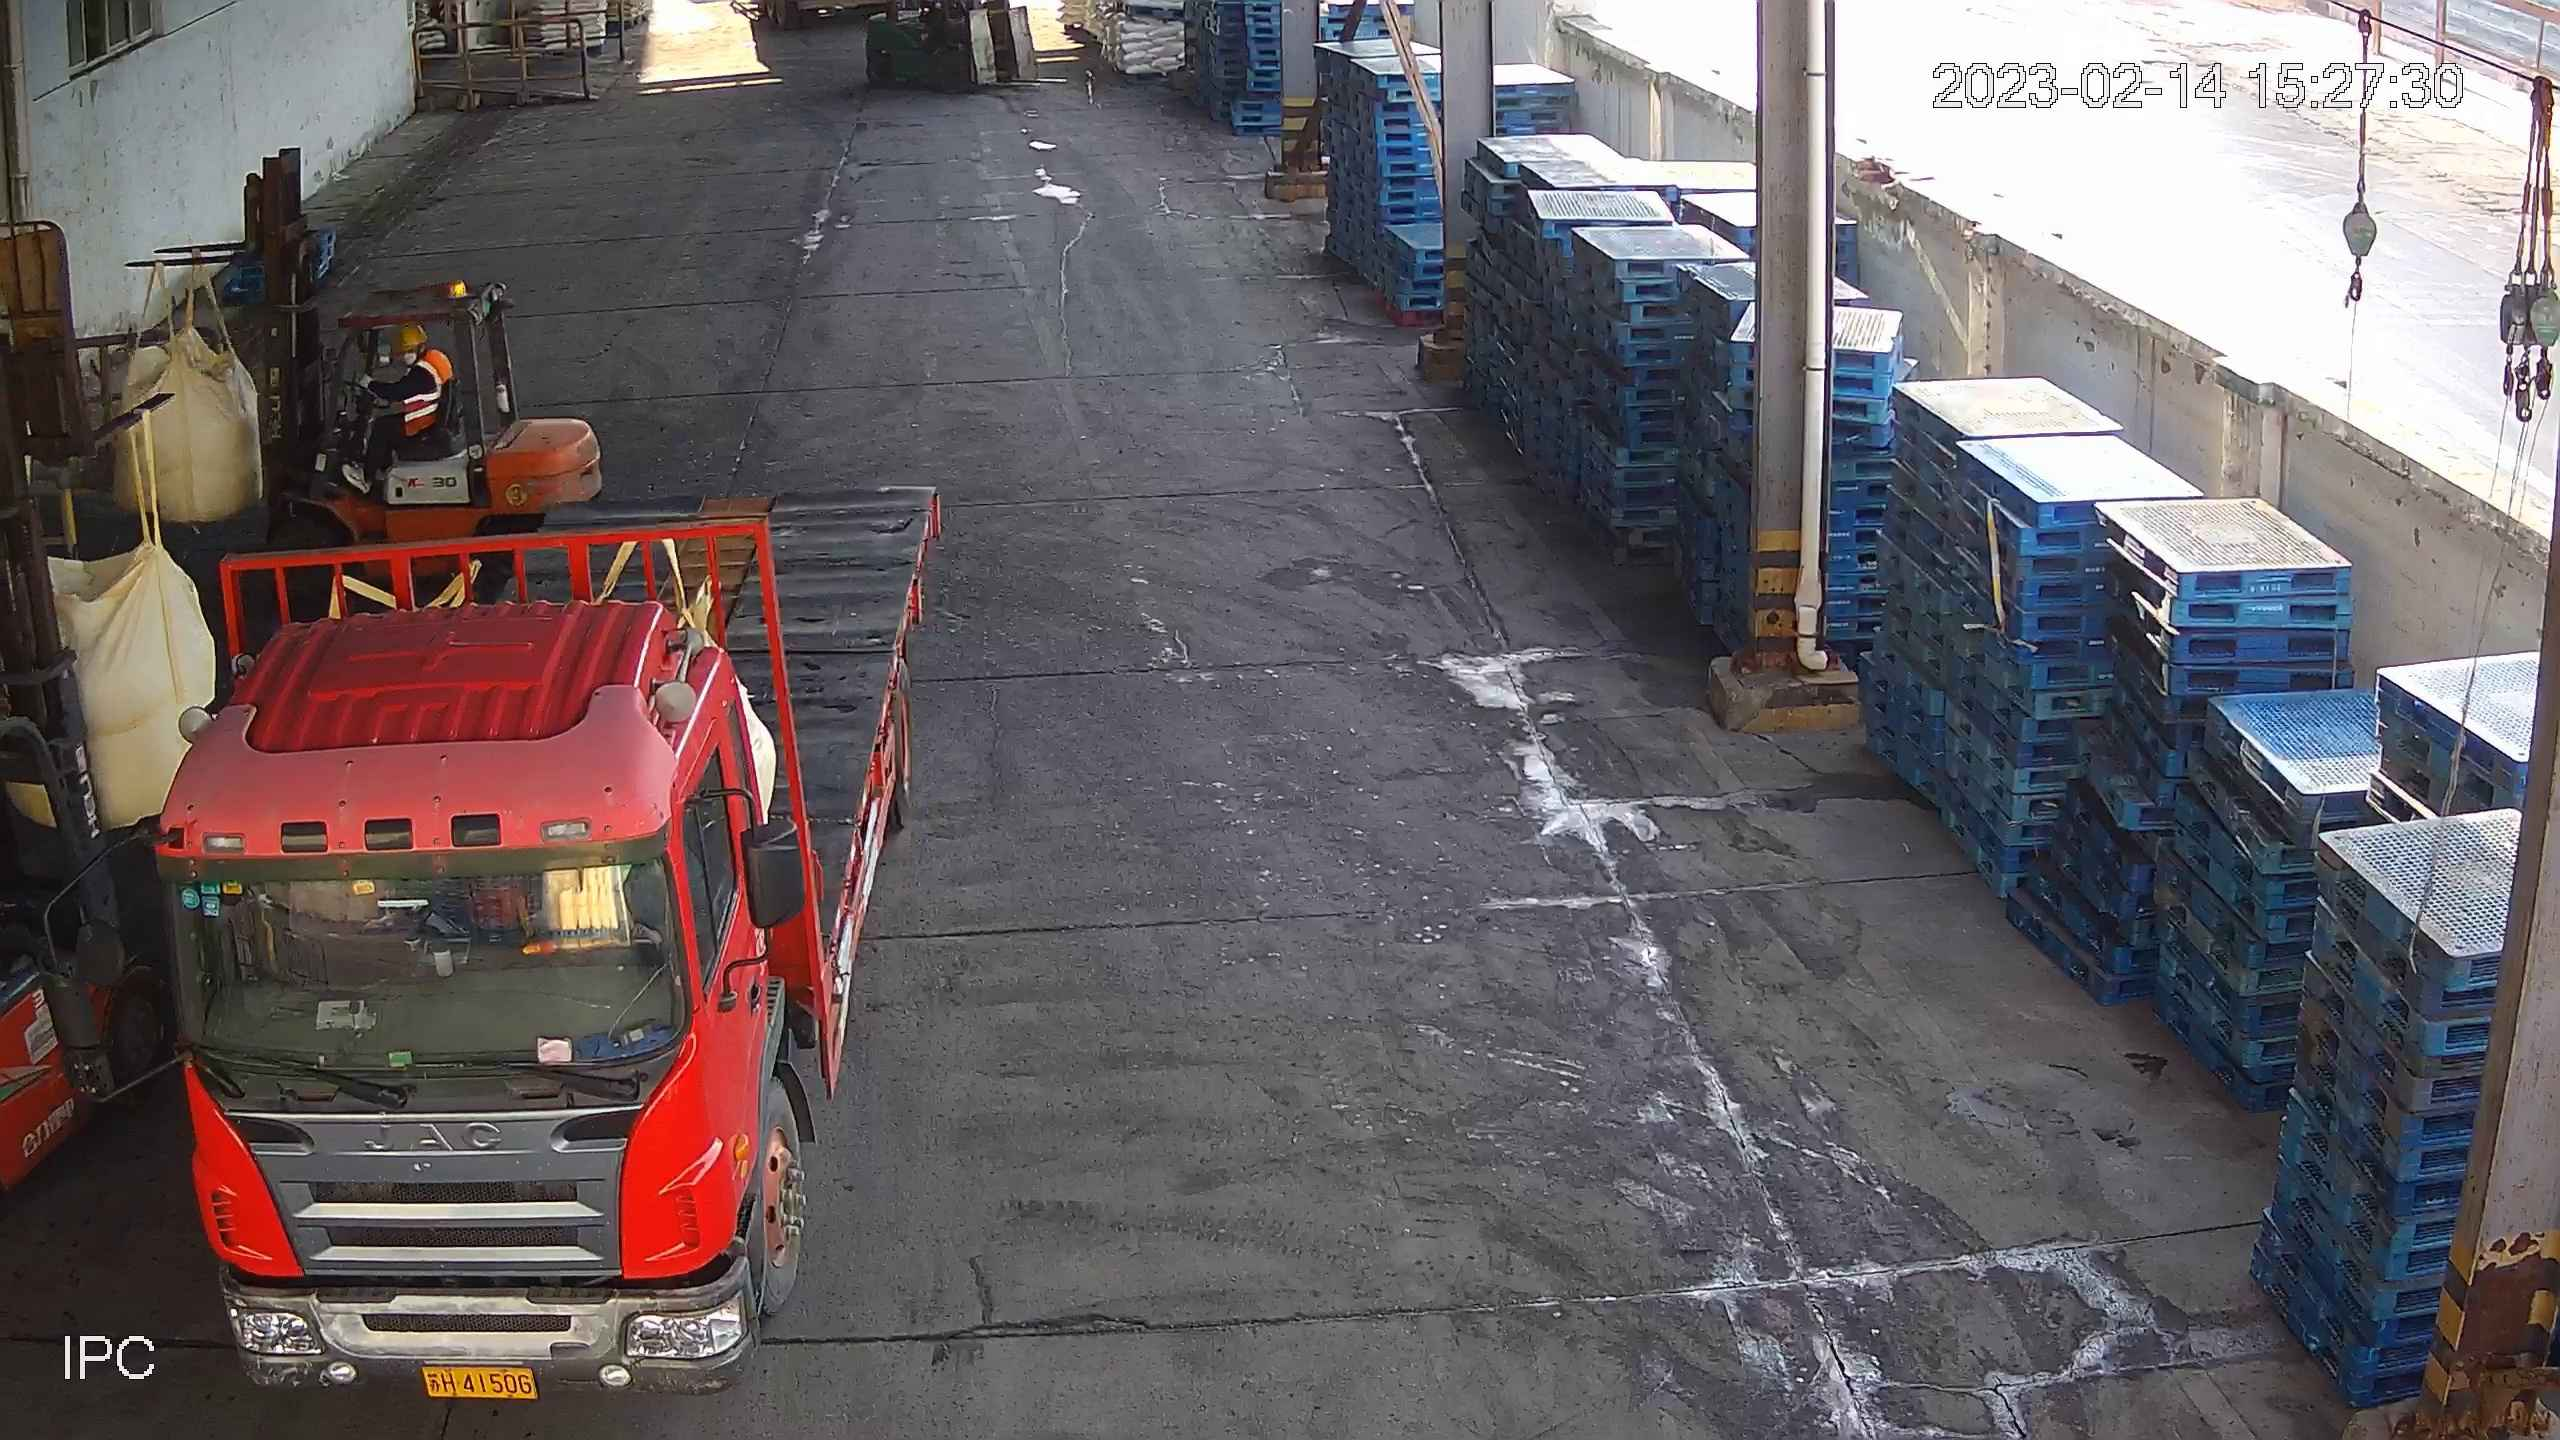head: (366, 321, 454, 408)
helmet: (394, 325, 427, 351)
people: (332, 323, 456, 499)
truck: (39, 480, 939, 1420)
